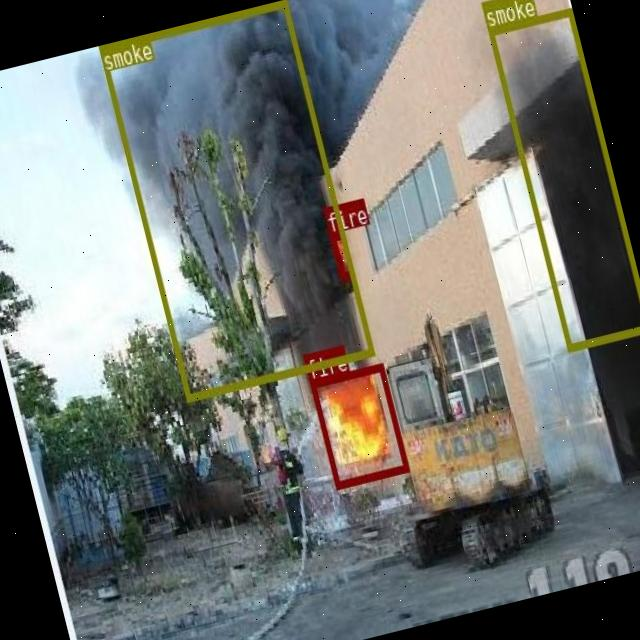fire: (308, 362, 408, 488), (328, 229, 354, 279)
smoke: (98, 0, 373, 401), (486, 7, 640, 349)
